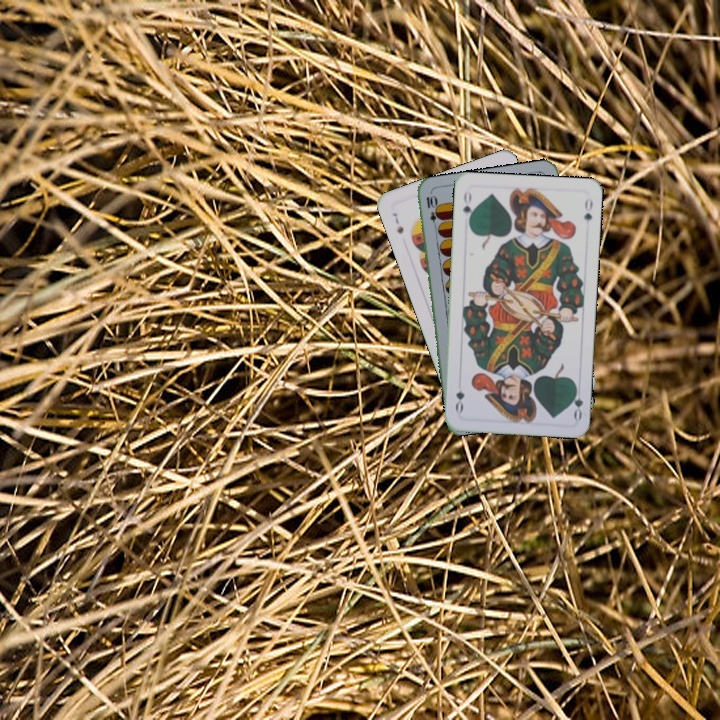E10: (422, 191, 441, 232)
GO: (567, 381, 585, 422), (459, 187, 476, 227)
S7: (389, 209, 406, 236)
